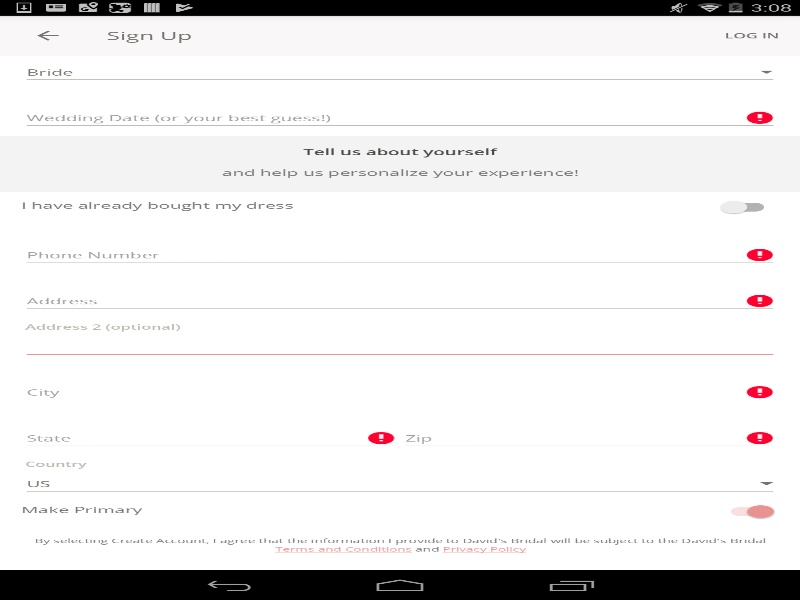Button: (10, 15, 85, 55)
Input: (21, 242, 778, 268), (21, 288, 778, 314), (21, 379, 778, 405), (21, 60, 778, 85), (21, 105, 778, 130), (21, 334, 778, 359), (21, 471, 778, 496), (21, 425, 400, 451), (400, 425, 778, 451)
